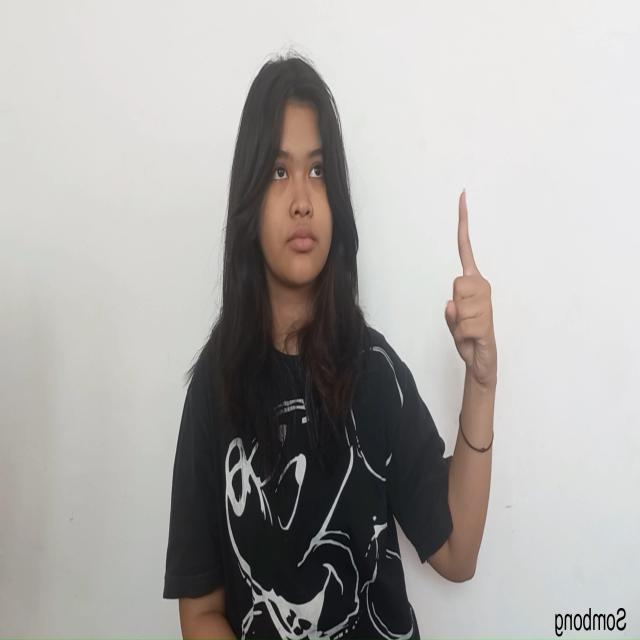Sombong -BISINDO-: (442, 185, 500, 399)
